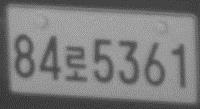1: (171, 42, 187, 88)
3: (117, 39, 139, 83)
4: (39, 35, 61, 81)
5: (93, 38, 113, 82)
6: (144, 41, 165, 86)
8: (13, 33, 35, 78)
로: (63, 44, 88, 80)
